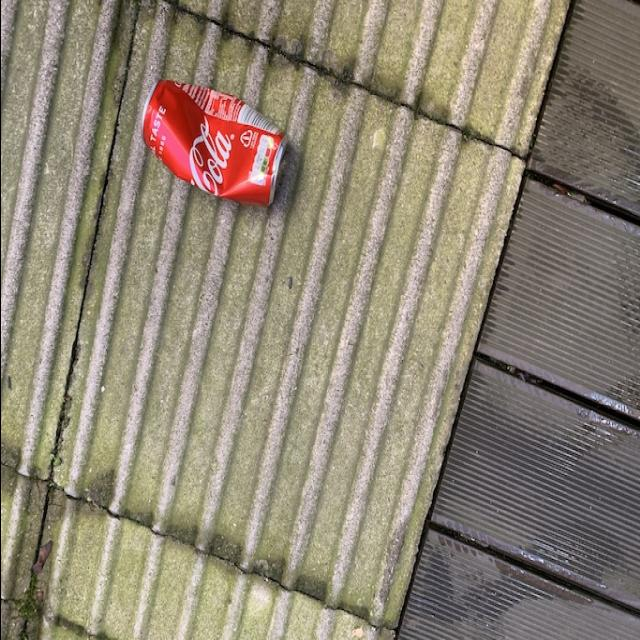Aluminum Can: (140, 75, 294, 214)
